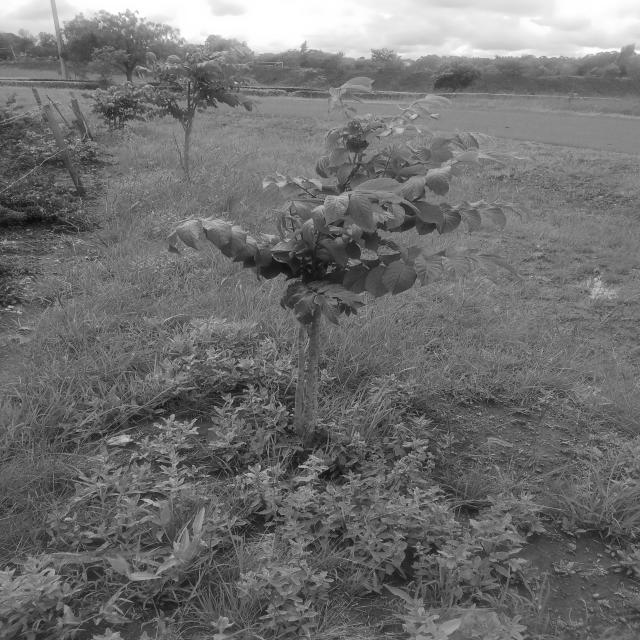Polyscias Kikuyensis: (189, 78, 516, 484), (78, 52, 262, 144)
